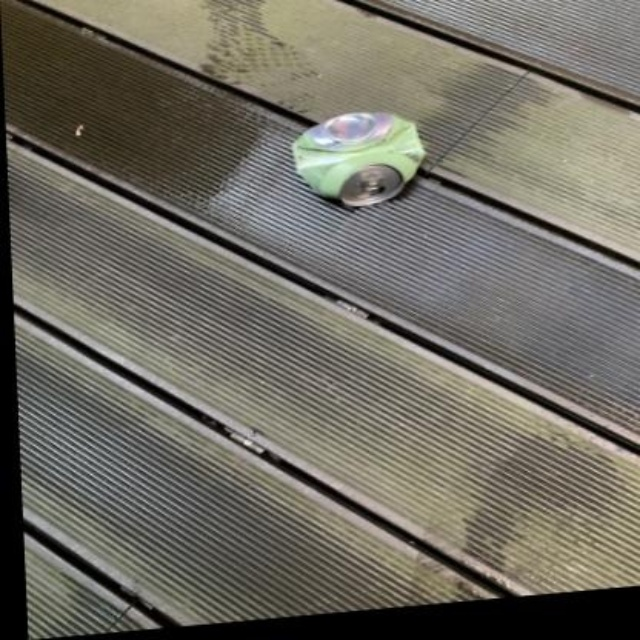trash: (294, 112, 423, 205)
